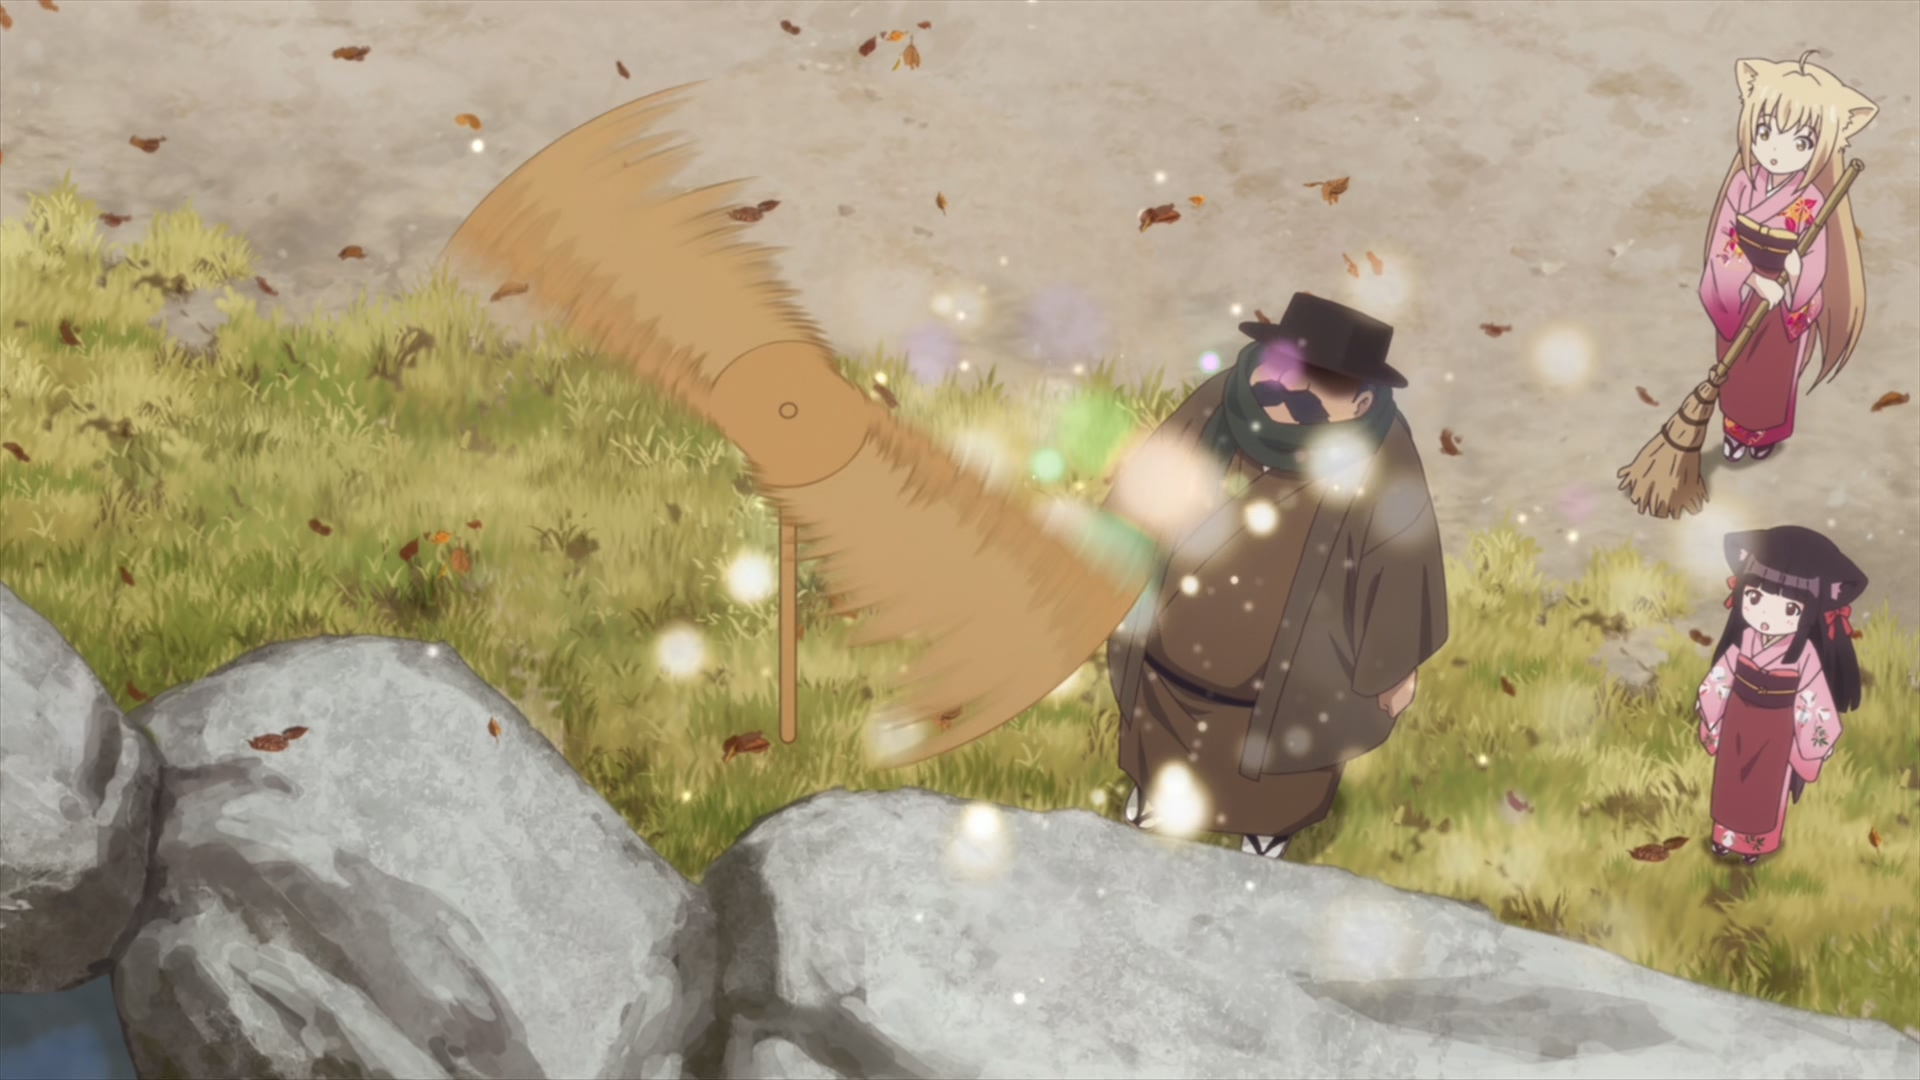其他: (1089, 294, 1449, 857)
柚: (1696, 47, 1878, 467)
樱: (1693, 524, 1870, 861)
